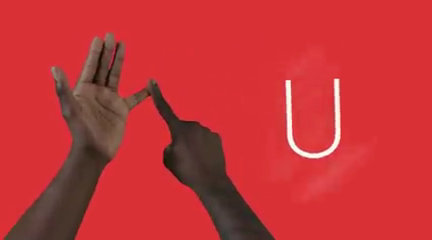U: (41, 16, 251, 198)
